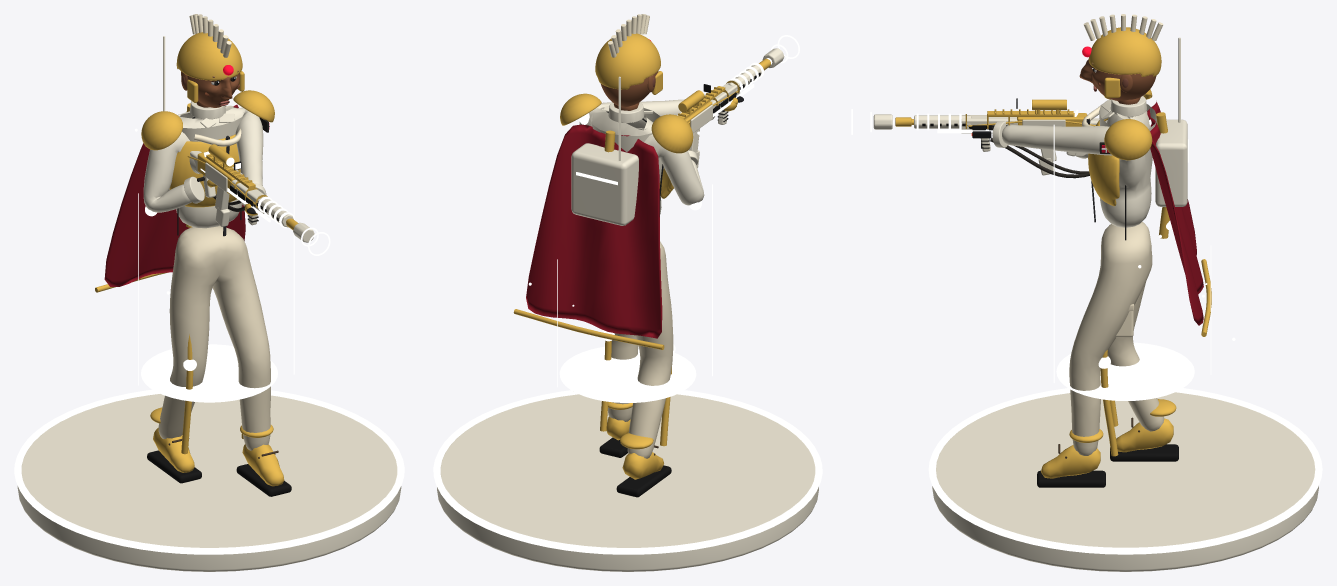
Rendered from vagt_guld.glb.
The picture shows the model from 3 angles, left to right: view 1: azimuth 30°, elevation 25°; view 2: azimuth 150°, elevation 25°; view 3: azimuth 270°, elevation 25°; orthographic projection.
Visible parts, largest first — view 1: fod_net, menneske_net, op2.001_net, op4.002_net, hoved_net, vaaben_net, op3.001_net, op4_net, op4.001_net, op1_net, op2_net; view 2: fod_net, op2.001_net, menneske_net, op4.002_net, op3_net, hoved_net, op4_net, vaaben_net, op3.001_net, op4.001_net; view 3: fod_net, menneske_net, op2.001_net, hoved_net, op4.002_net, op3_net, vaaben_net, op4_net, op3.001_net, op1_net, op2_net.
Part boxes in pixels (x1,y1,x2,y2): fod_net: [14, 389, 404, 571]; menneske_net: [143, 101, 291, 496]; op2.001_net: [95, 90, 274, 292]; op4.002_net: [135, 118, 294, 402]; hoved_net: [176, 14, 244, 107]; vaaben_net: [189, 151, 298, 229]; op3.001_net: [204, 151, 314, 242]; op4_net: [145, 103, 243, 454]; op4.001_net: [227, 188, 330, 255]; op1_net: [200, 144, 253, 211]; op2_net: [187, 156, 258, 226]; fod_net: [433, 390, 822, 571]; op2.001_net: [513, 93, 693, 349]; menneske_net: [579, 94, 743, 497]; op4.002_net: [528, 131, 712, 402]; op3_net: [571, 76, 638, 225]; hoved_net: [595, 14, 662, 107]; op4_net: [579, 113, 701, 446]; vaaben_net: [678, 58, 770, 152]; op3.001_net: [677, 48, 784, 132]; op4.001_net: [713, 35, 799, 116]; fod_net: [928, 388, 1322, 571]; menneske_net: [991, 96, 1178, 487]; op2.001_net: [1082, 89, 1211, 336]; hoved_net: [1079, 14, 1163, 100]; op4.002_net: [1053, 124, 1235, 400]; op3_net: [1143, 37, 1188, 206]; vaaben_net: [895, 109, 1099, 161]; op4_net: [1098, 112, 1172, 456]; op3.001_net: [873, 109, 1078, 129]; op1_net: [972, 99, 1089, 178]; op2_net: [968, 98, 1095, 175].
Size of the model in its own units: 1.94 by 2.58 by 2.32.
